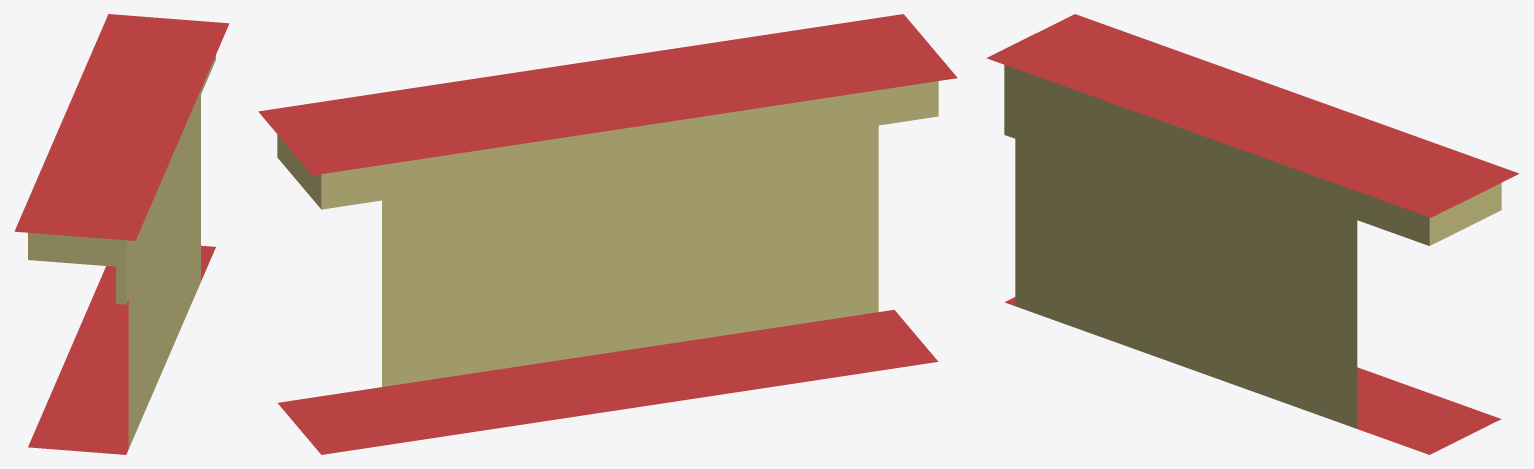
3 views of the same model, side by side, from view 1: azimuth 30°, elevation 25°; view 2: azimuth 150°, elevation 25°; view 3: azimuth 270°, elevation 25° (orthographic). The views are drawn at different scales.
Parts seen in each view (by area): view 1: group_3, group_5, group_6, group_4; view 2: group_5, group_3, group_6, group_4; view 3: group_5, group_3, group_6, group_4.
Boxes of the visible parts, x1,y1,x2,y2 form: group_3: [14, 14, 228, 240]; group_5: [28, 55, 215, 448]; group_6: [28, 245, 215, 454]; group_4: [16, 14, 228, 240]; group_5: [277, 81, 938, 386]; group_3: [258, 14, 957, 175]; group_6: [278, 309, 938, 454]; group_4: [258, 14, 956, 175]; group_5: [1004, 65, 1501, 428]; group_3: [987, 14, 1519, 217]; group_6: [1004, 297, 1501, 454]; group_4: [990, 14, 1518, 216].
Size of the model in its own units: 28.09 by 31.07 by 15.73.
